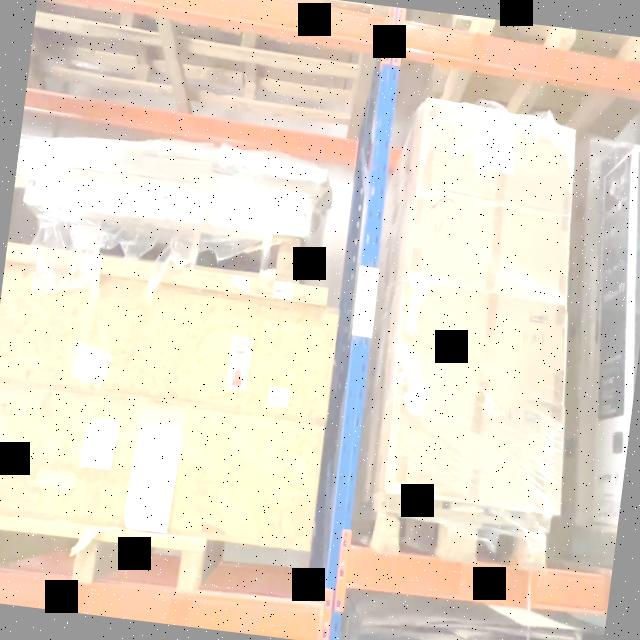box: (385, 386, 564, 512), (394, 284, 566, 398), (409, 195, 570, 297), (418, 112, 574, 204)
